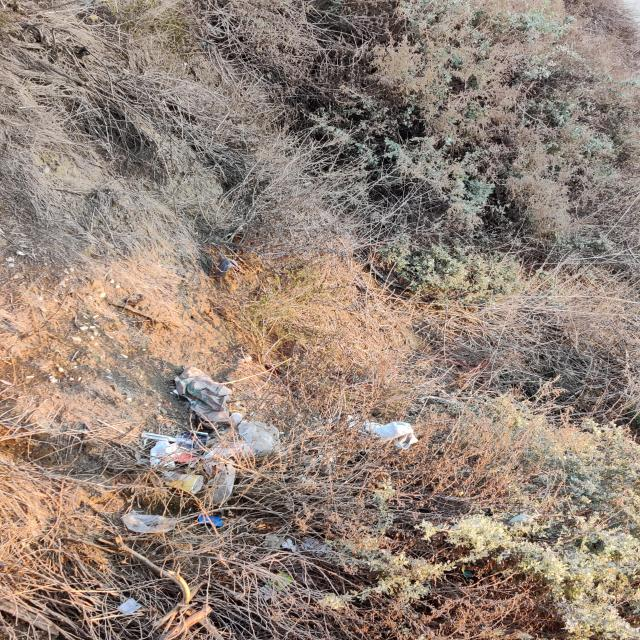litter: (164, 475, 204, 496)
